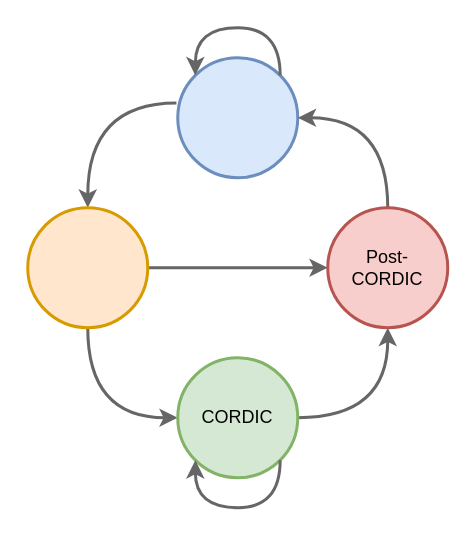
The diagram is 474 pixels wide and 534 high, and some of its shapes have lost their labels. Each missing label, with the centre of its shape:
"Idle" belongs at point 237,117.
"Pre- CORDIC" belongs at point 87,267.
